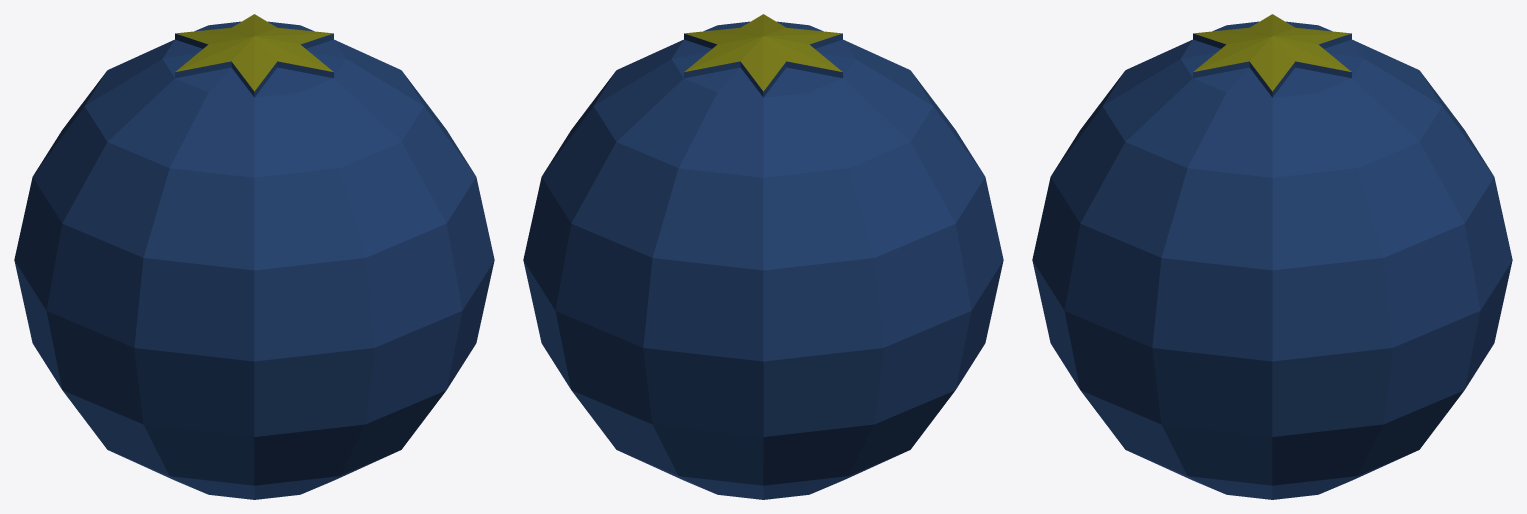
Rendered from blueberry.fbx.
The picture shows the model from 3 angles, left to right: view 1: azimuth 30°, elevation 25°; view 2: azimuth 150°, elevation 25°; view 3: azimuth 270°, elevation 25°; orthographic projection.
Parts seen in each view (by area): view 1: blueberry; view 2: blueberry; view 3: blueberry.
Boxes of the visible parts, box(x1,y1,x2,y2) form: blueberry: box(14, 14, 494, 499); blueberry: box(523, 14, 1003, 499); blueberry: box(1032, 14, 1512, 499).
Size of the model in its own units: 56.58 by 57.37 by 56.58.
